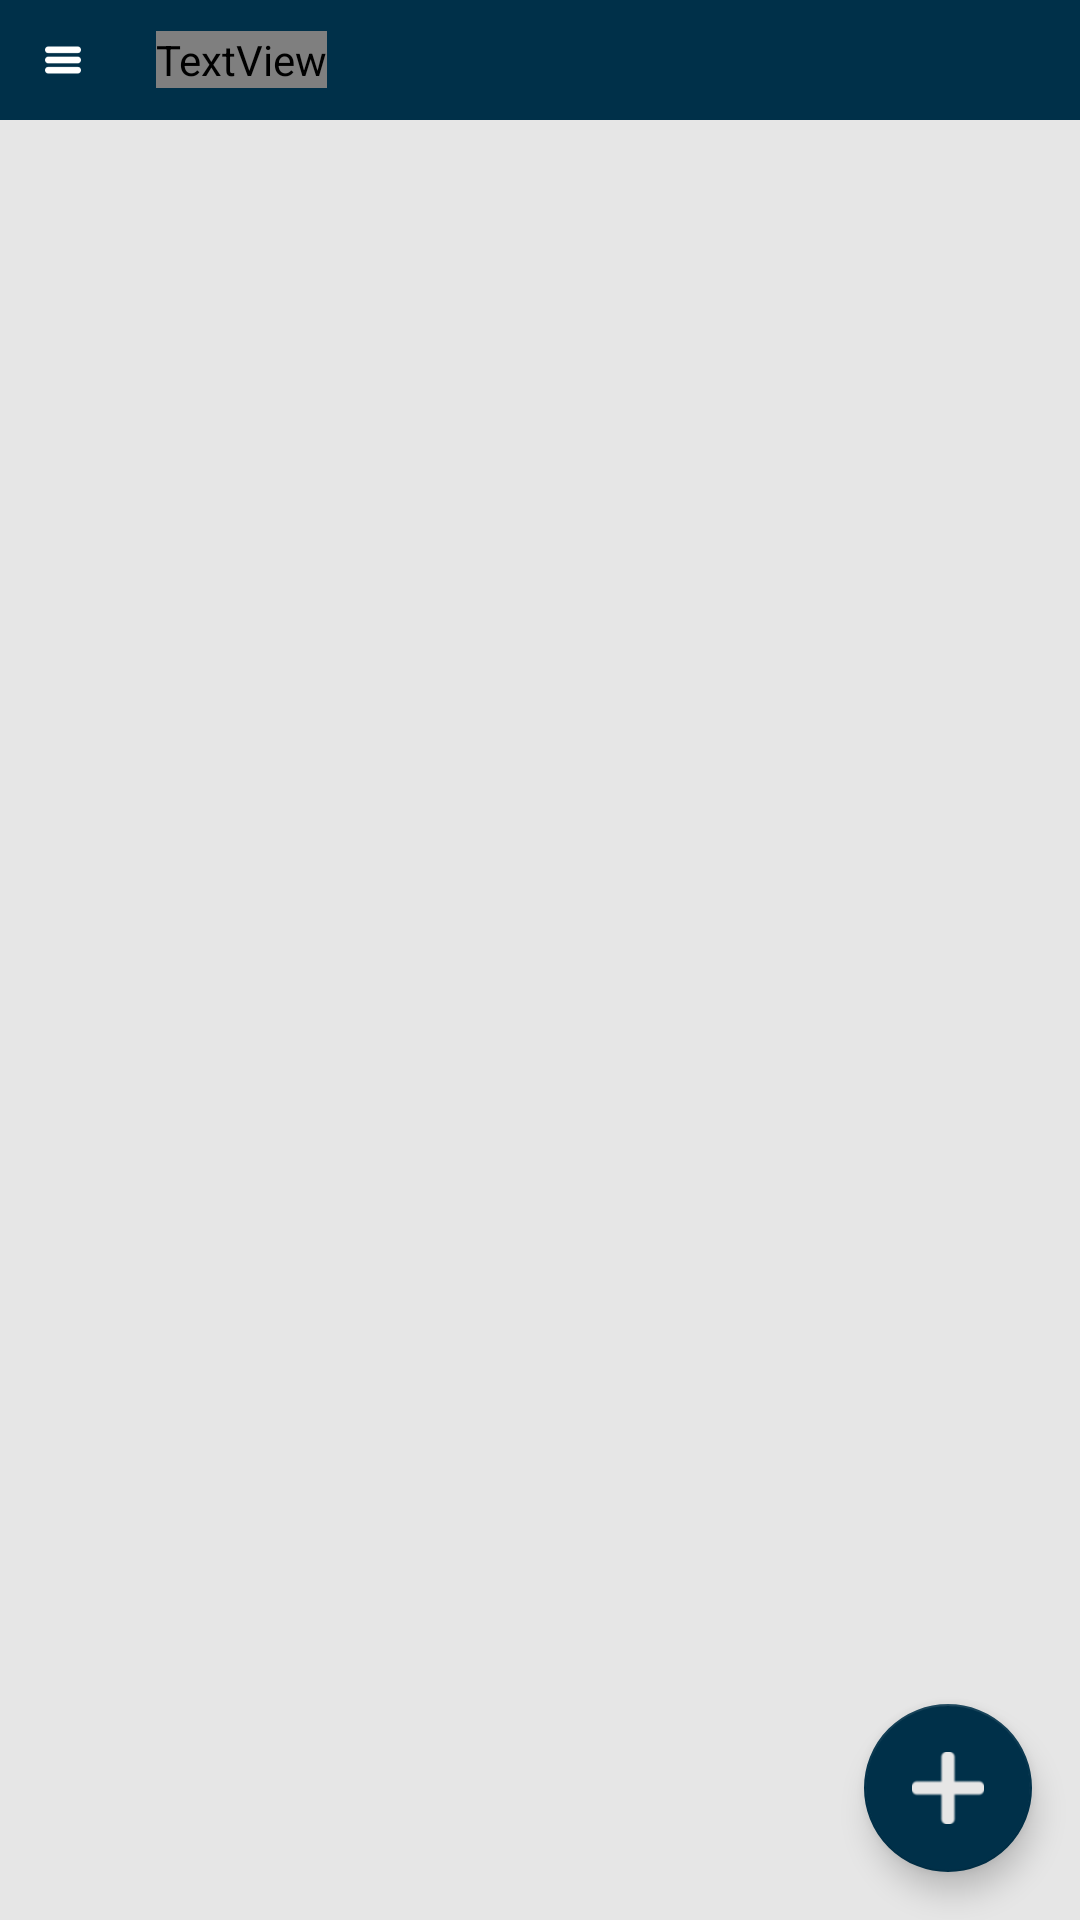

Locate icon controls on the screen. Image size 1080*1920, boxes as (x1, y1, x2, y2).
add: (864, 1704, 1032, 1872)
menu: (45, 46, 81, 74)
